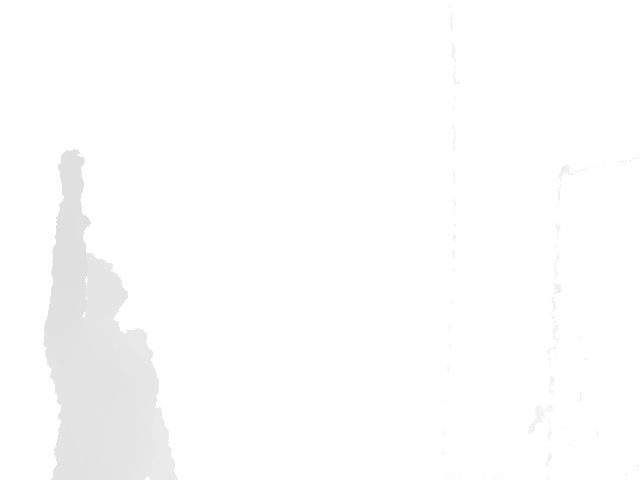hand: (58, 149, 85, 198)
head: (77, 251, 129, 319)
person: (42, 148, 181, 480)
